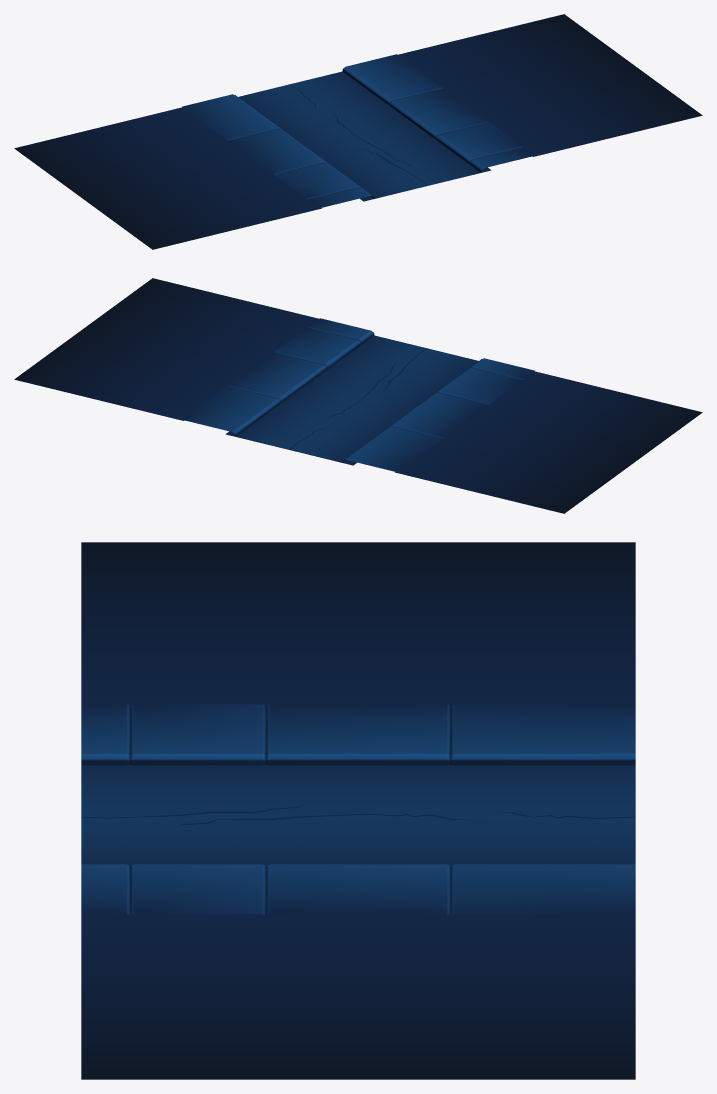
Rendered from Road01Night.fbx.
3 views of the same model, one above another, from view 1: azimuth 30°, elevation 25°; view 2: azimuth 150°, elevation 25°; view 3: azimuth 270°, elevation 25° (orthographic). The views are drawn at different scales.
Visible parts, largest first — view 1: Road01Night; view 2: Road01Night; view 3: Road01Night.
Part boxes in pixels (<box>): Road01Night: <box>14,14,702,249</box>; Road01Night: <box>14,278,702,513</box>; Road01Night: <box>81,542,635,1079</box>.
Bounding box in the file's own units: 2062 × 14.58 × 900.
